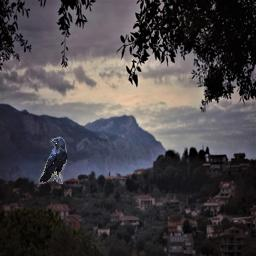Crow: (39, 136, 68, 184)
